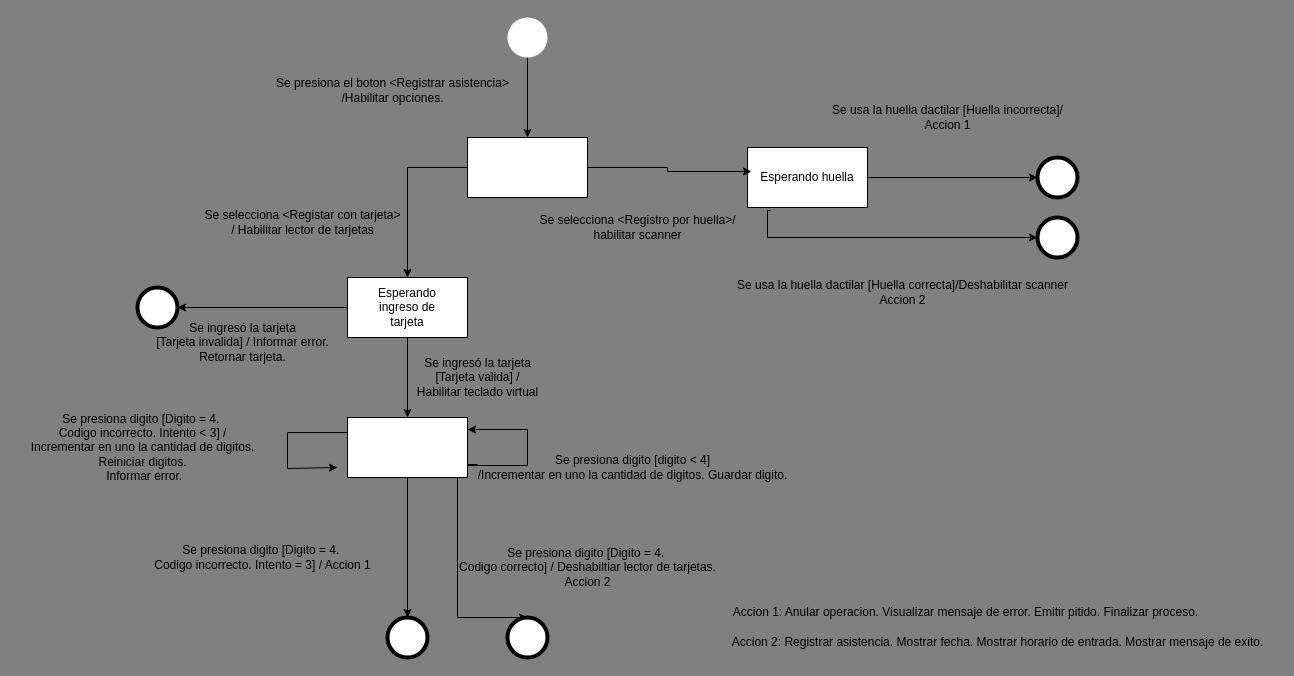
The diagram is 1294 pixels wide and 676 high, and some of its shapes have lost their labels. Here are the shapes that lost their labels. From the top down, the centre of each, then its label:
At pixel 527 167: "Esperando seleccion".
At pixel 407 447: "Esperando ingreso del codigo".
